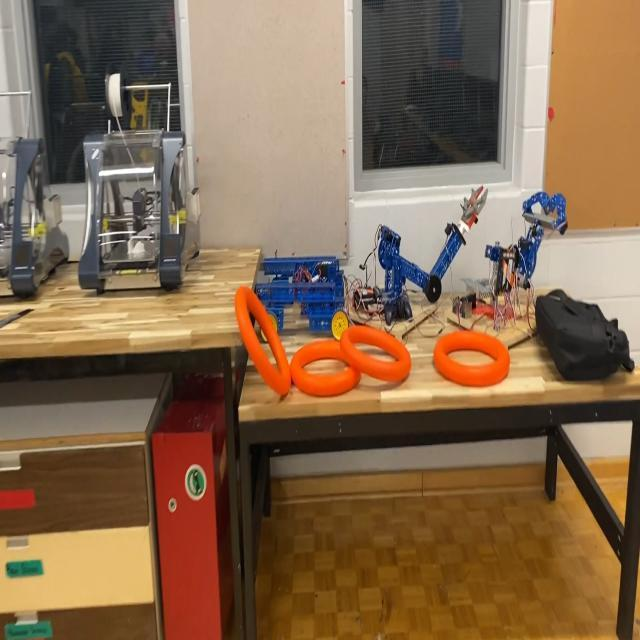note: (234, 284, 292, 394), (434, 327, 509, 389), (339, 323, 411, 383), (291, 338, 361, 396)
